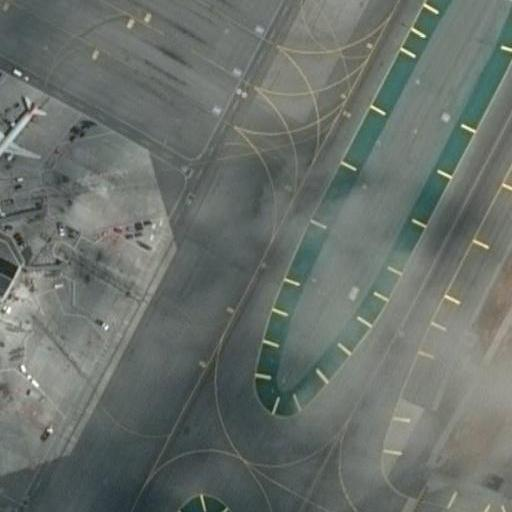Aircraft: (0, 94, 45, 180)
